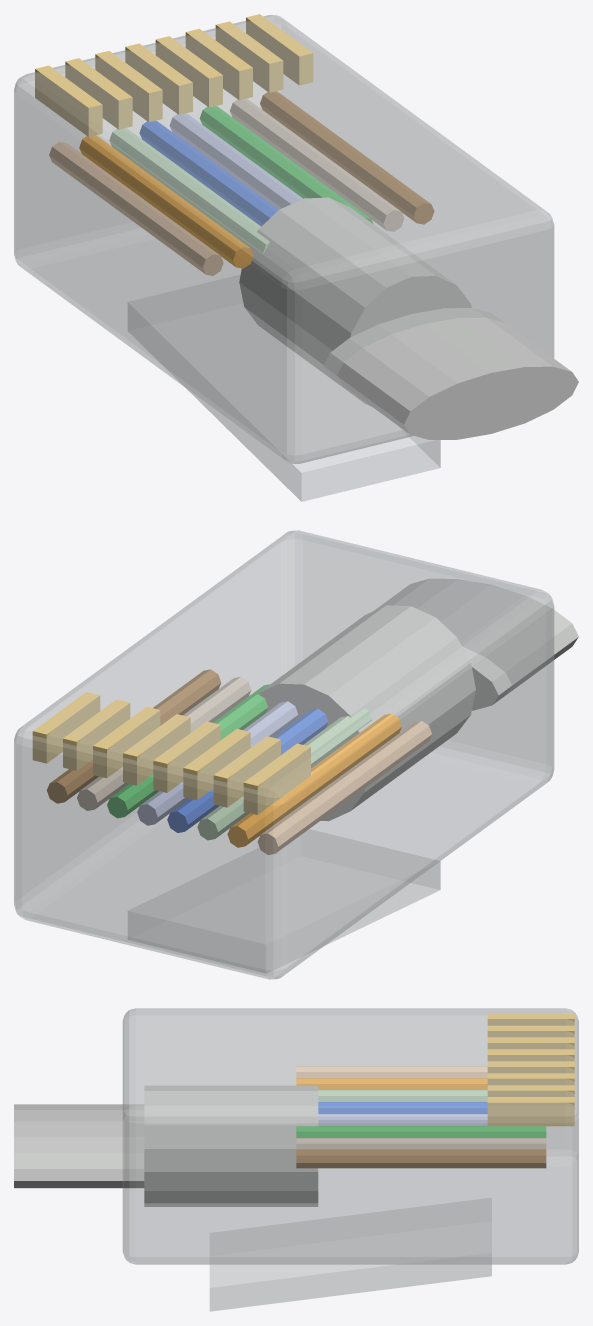
Rendered from cable_rj45_plug_crushed.glb.
3 views of the same model, one above another, from view 1: azimuth 30°, elevation 25°; view 2: azimuth 150°, elevation 25°; view 3: azimuth 270°, elevation 25° (orthographic). The views are drawn at different scales.
Visible parts, largest first — view 1: plug_body, variant_crushed_mesh, latch; view 2: plug_body, variant_crushed_mesh, latch; view 3: plug_body, variant_crushed_mesh, latch.
Boxes of the visible parts, x1,y1,x2,y2 form: plug_body: (14, 14, 554, 463); variant_crushed_mesh: (49, 91, 578, 439); latch: (128, 275, 440, 501); plug_body: (14, 530, 554, 979); variant_crushed_mesh: (47, 579, 578, 854); latch: (128, 829, 440, 973); plug_body: (122, 1008, 578, 1264); variant_crushed_mesh: (14, 1066, 546, 1206); latch: (209, 1198, 491, 1311).
Bounding box in the file's own units: 0.0117 × 0.0115 × 0.026.
